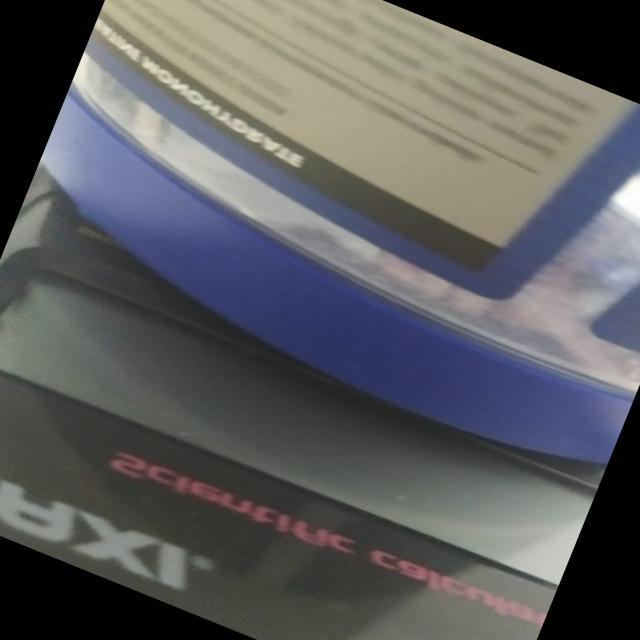Calculator: (0, 231, 605, 640)
